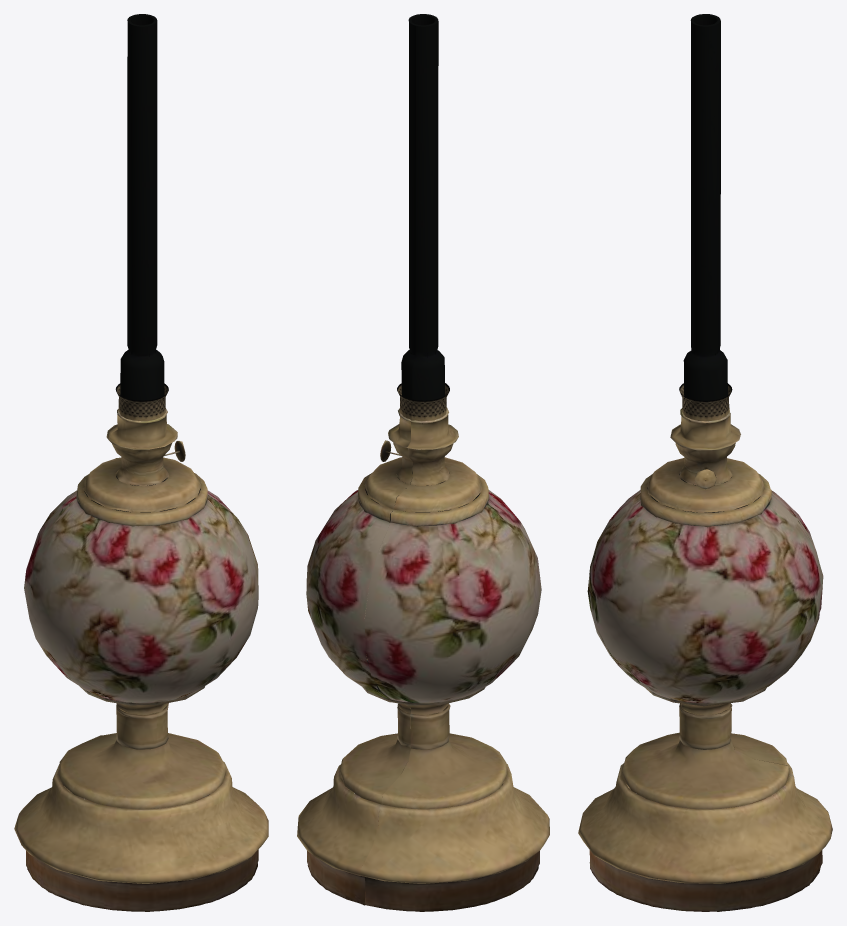
File: vintage_oil_lamp.glb
3 renders of one model, left to right at view 1: azimuth 30°, elevation 25°; view 2: azimuth 150°, elevation 25°; view 3: azimuth 270°, elevation 25°, orthographic.
Visible parts, largest first — view 1: vintage_oil_lamp_glass; view 2: vintage_oil_lamp_glass; view 3: vintage_oil_lamp_glass.
Boxes of the visible parts, <box> form: vintage_oil_lamp_glass: <box>14,14,268,911</box>; vintage_oil_lamp_glass: <box>297,14,549,911</box>; vintage_oil_lamp_glass: <box>578,14,832,911</box>.
Size of the model in its own units: 0.2198 by 0.8016 by 0.2197.
3 materials, 3 textured.
